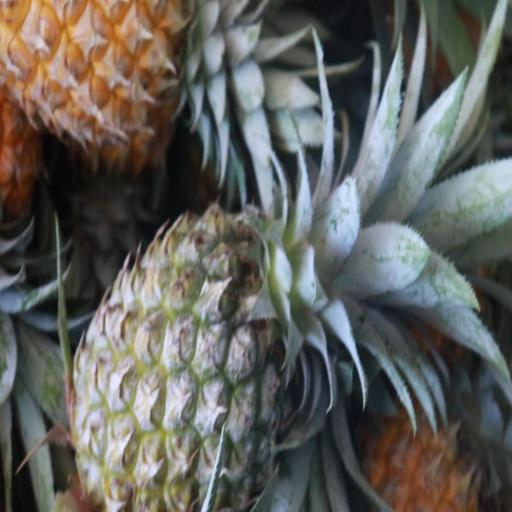------------------------------: (73, 208, 295, 512)
Pineapple - v8 v1: (2, 0, 226, 147)
